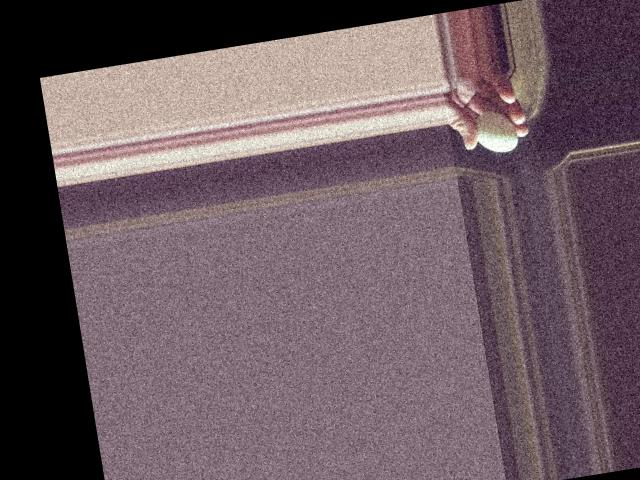egg: (472, 108, 518, 155)
